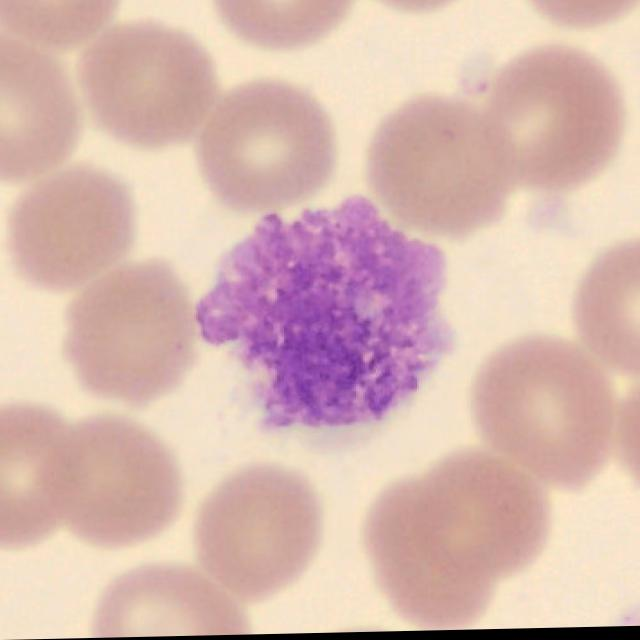Restos celulares: (194, 197, 455, 431)
